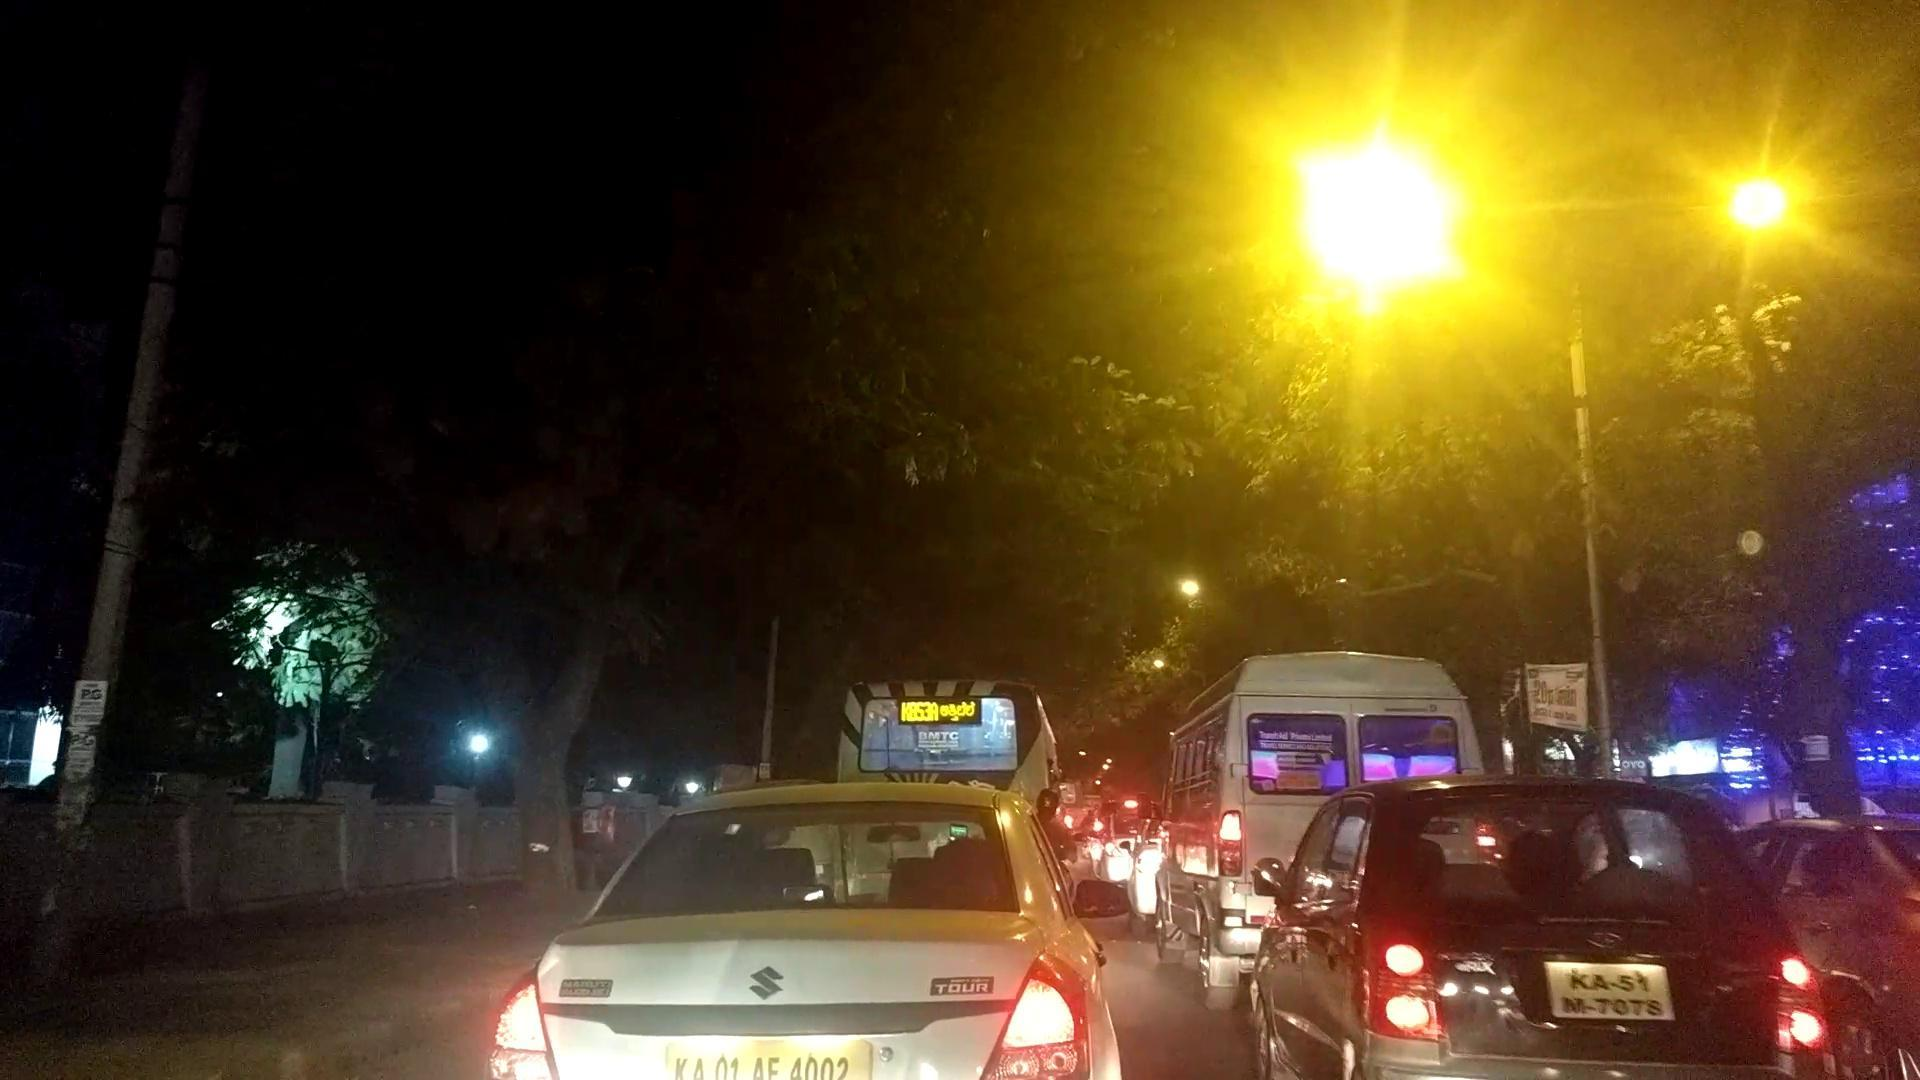on: (40, 0, 1920, 1043)
